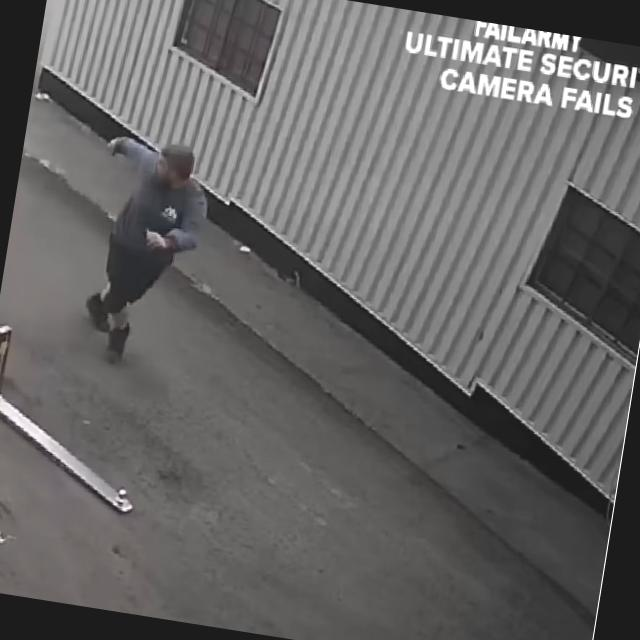person: (72, 133, 216, 374)
